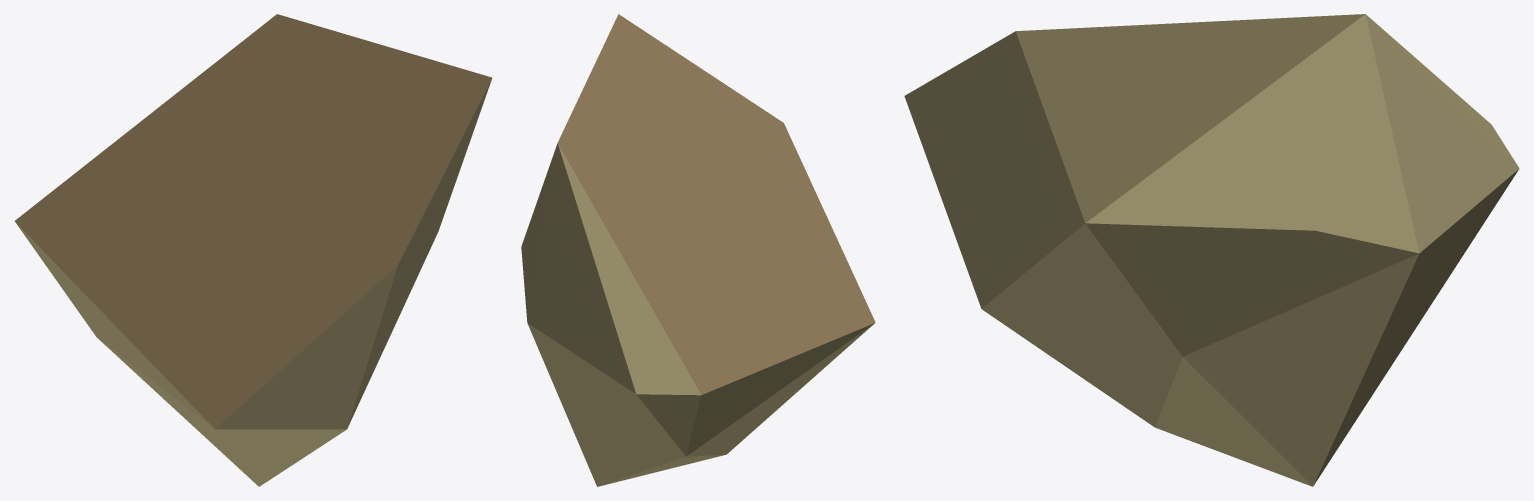
The picture shows the model from 3 angles, left to right: view 1: azimuth 30°, elevation 25°; view 2: azimuth 150°, elevation 25°; view 3: azimuth 270°, elevation 25°; orthographic projection. The views are drawn at different scales.
Visible parts, largest first — view 1: Object063; view 2: Object063; view 3: Object063.
Boxes of the visible parts, bbox=[...] form: Object063: bbox=[14, 14, 492, 486]; Object063: bbox=[521, 14, 875, 486]; Object063: bbox=[904, 14, 1519, 486].
Size of the model in its own units: 38.62 by 53.85 by 58.41.
